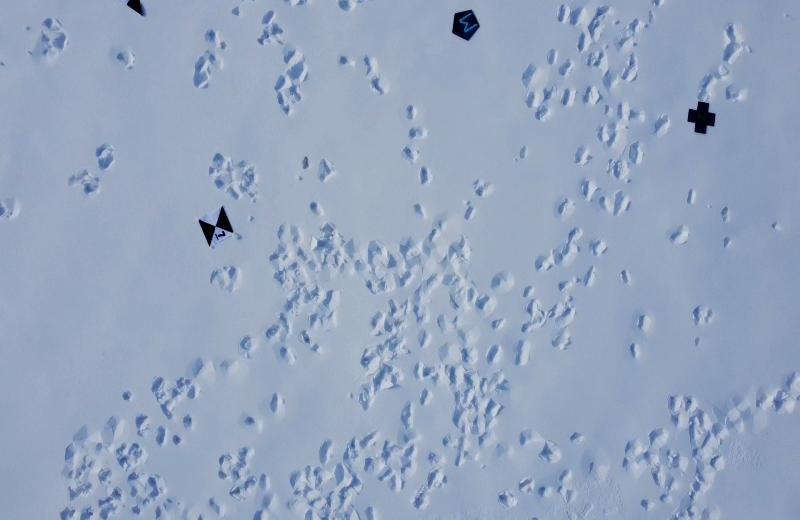Cross: (685, 99, 718, 136)
Pentagon: (450, 8, 482, 43)
